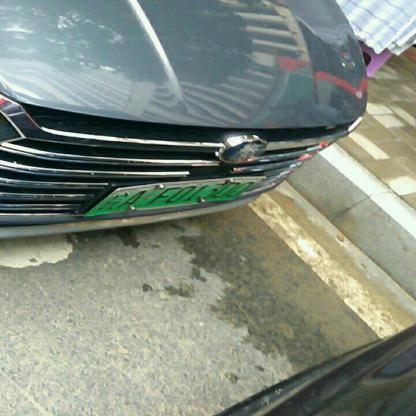lp: (85, 177, 263, 216)
